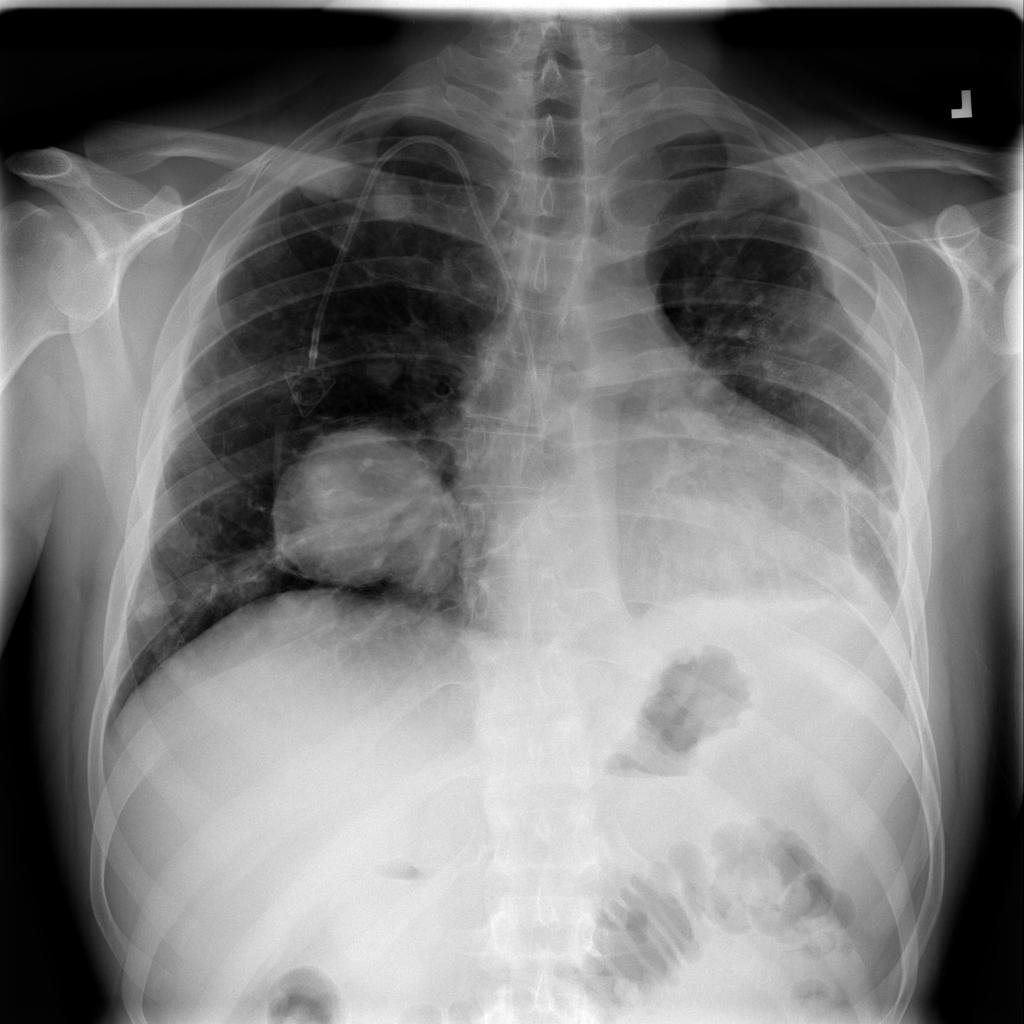nodule: (273, 407, 492, 603), (769, 439, 848, 513), (119, 554, 188, 632), (356, 165, 429, 236), (346, 333, 420, 399), (287, 138, 354, 207), (224, 559, 277, 604)
